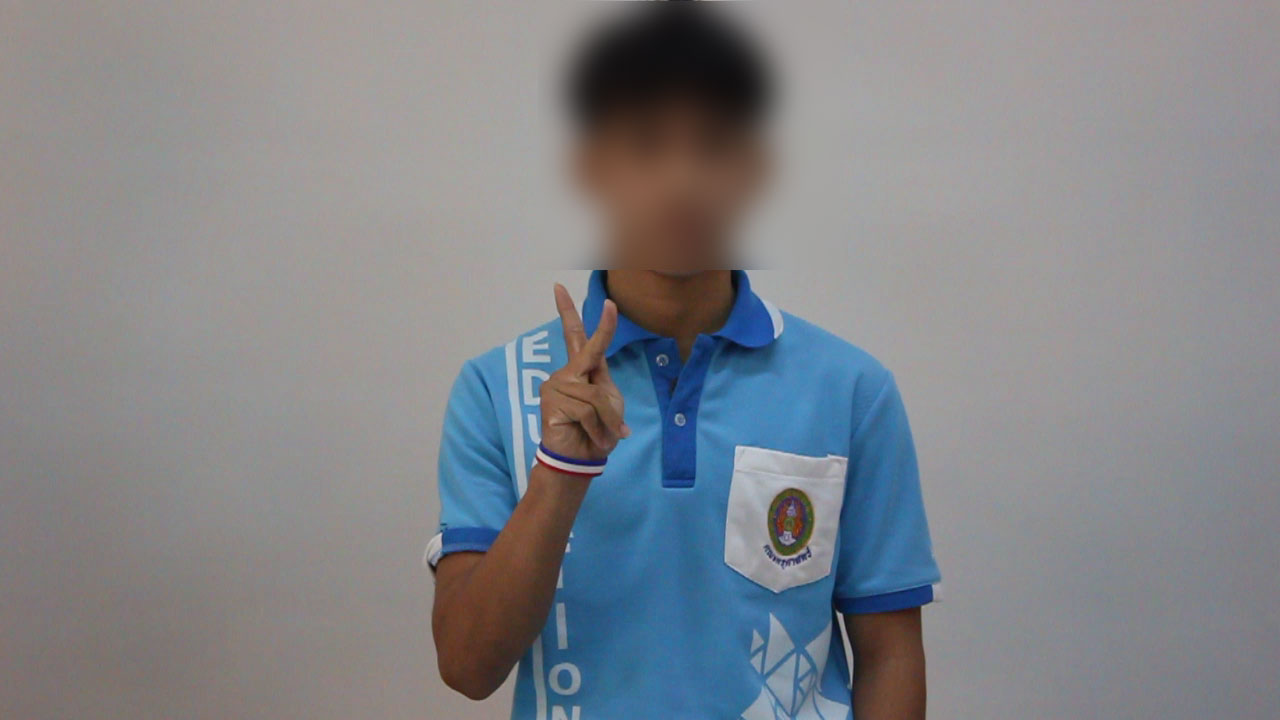ko: (523, 271, 640, 461)
